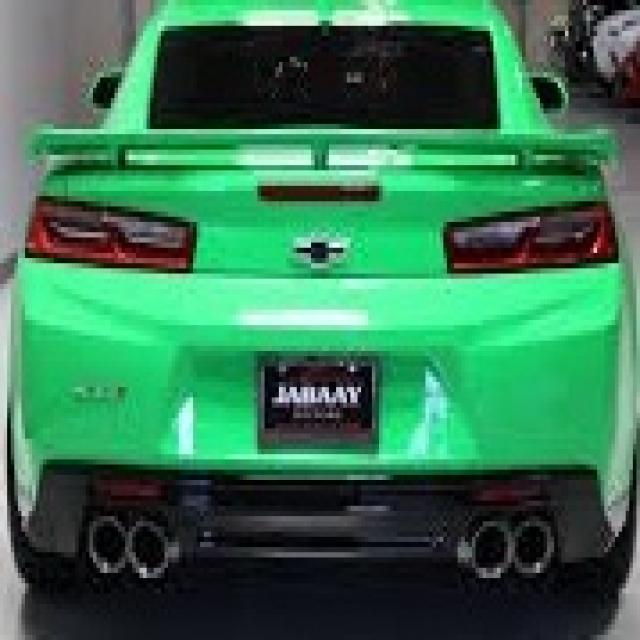green: (7, 0, 640, 609)
